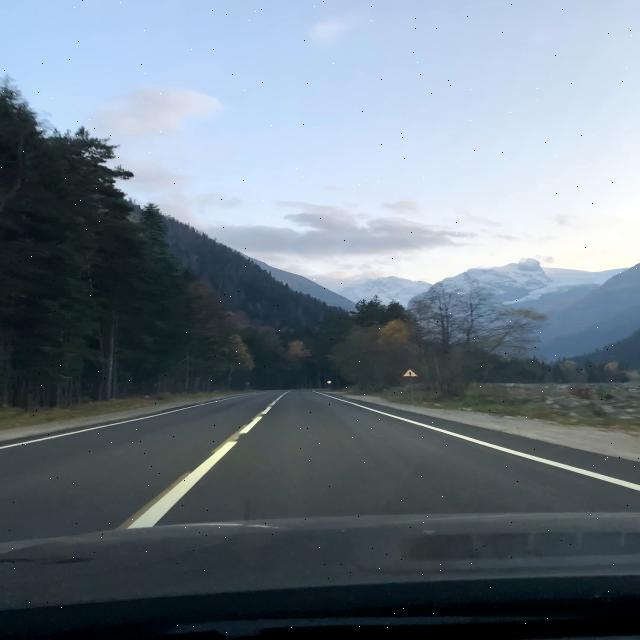lane: (320, 394, 639, 490), (126, 441, 236, 527), (240, 416, 261, 433)
road: (151, 393, 639, 531)
